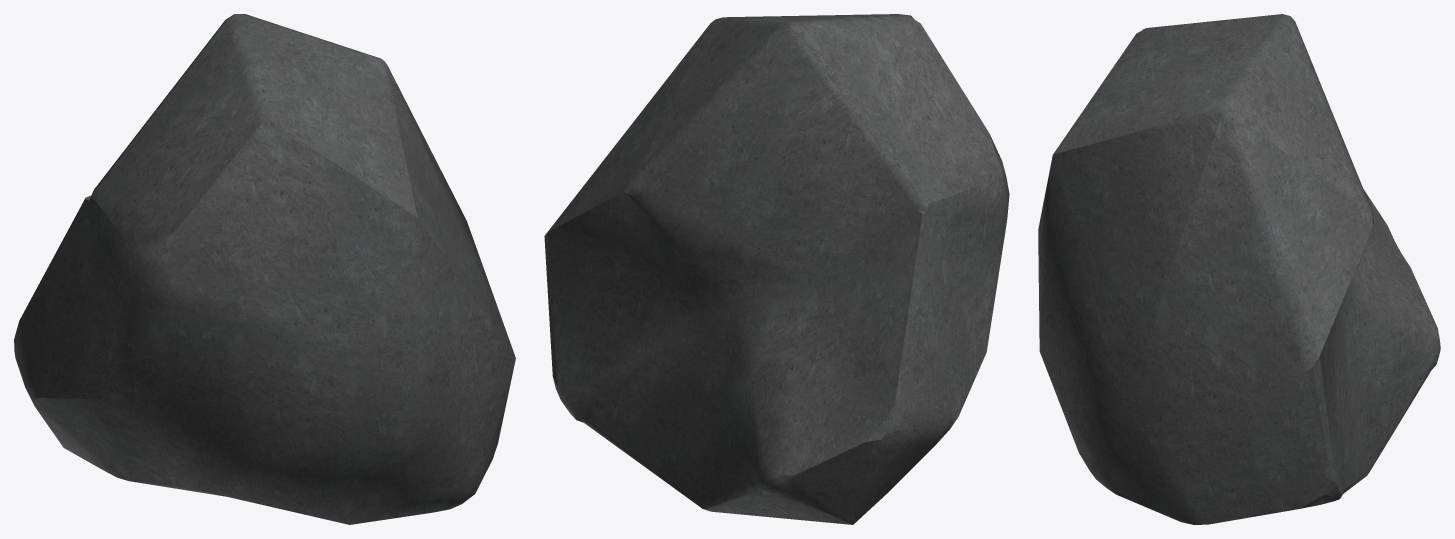
The model's file is rock.012.obj.
3 views of the same model, side by side, from view 1: azimuth 30°, elevation 25°; view 2: azimuth 150°, elevation 25°; view 3: azimuth 270°, elevation 25° (orthographic). The views are drawn at different scales.
Bounding box in the file's own units: 2.52 × 2.83 × 2.25.
Materials: 1 (1 with a texture image).
